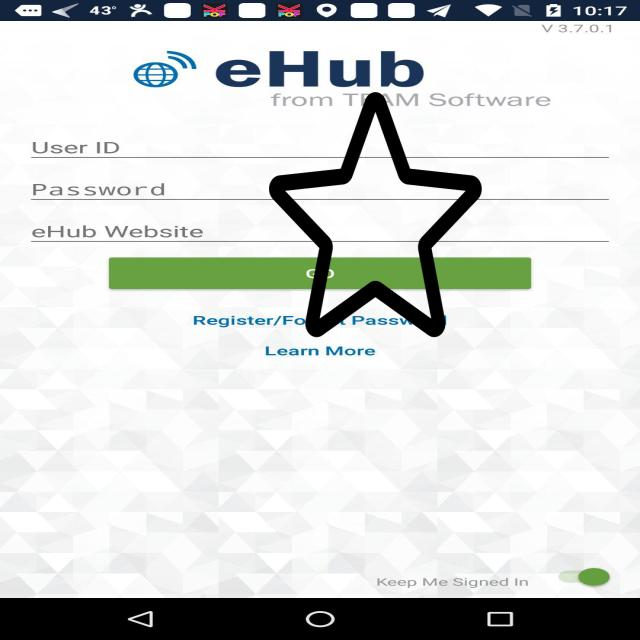forced continuity: (269, 87, 482, 342)
